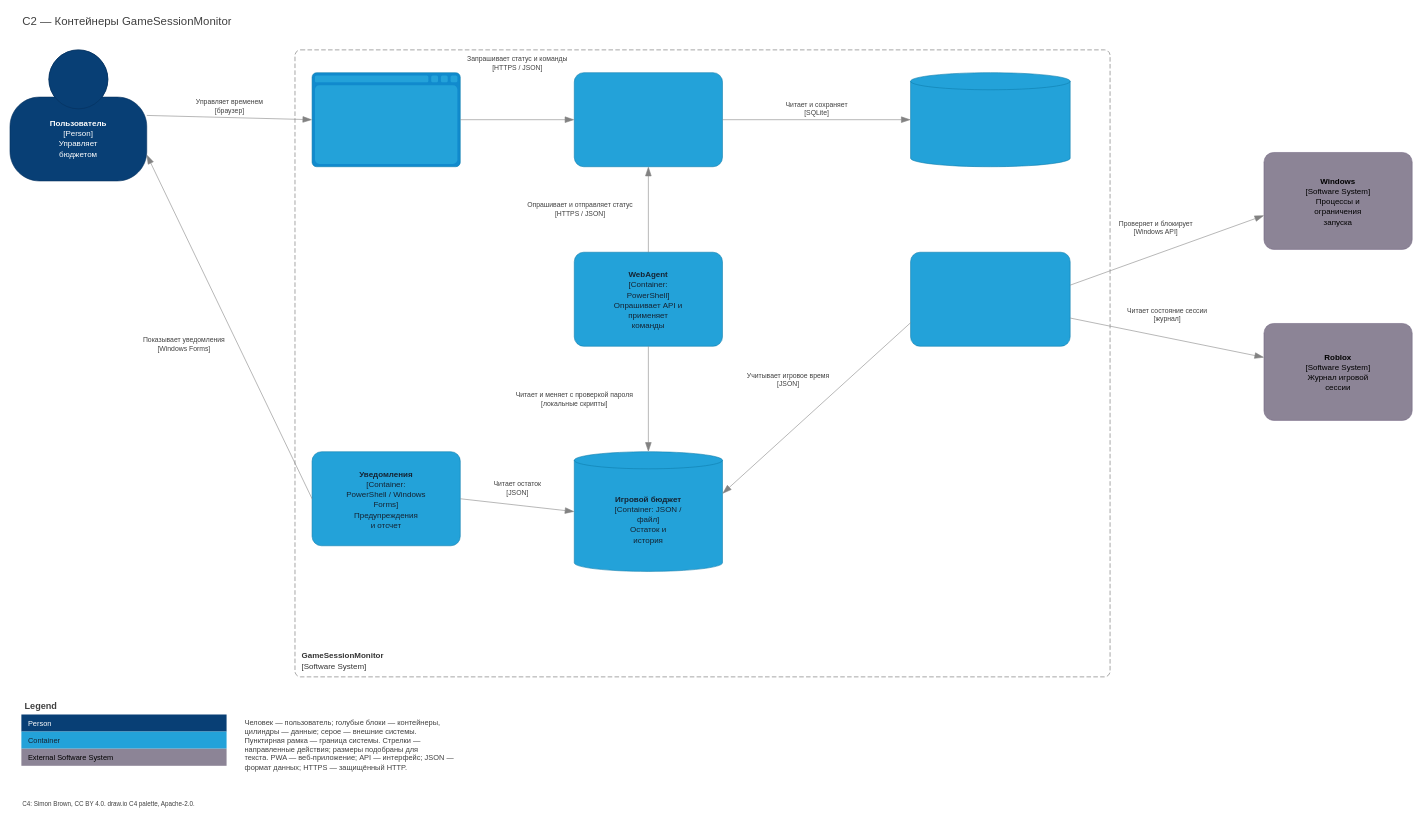
Some shapes in this 1422 by 825 pixel diagram are drawn without their labels. The centre of each missing label's shape, as x and y in pixels:
GameTime PWA [Container: React / браузер] Интерфейс бюджета: the point at 386,119
SystemEnforcer [Container: PowerShell / SYSTEM] Учет и блокировка процессов: the point at 990,299
Web API [Container: Python HTTP] Сессии, команды и статус: the point at 648,119
Данные Web API [Container: SQLite] Команды, сессии, статус: the point at 990,119
